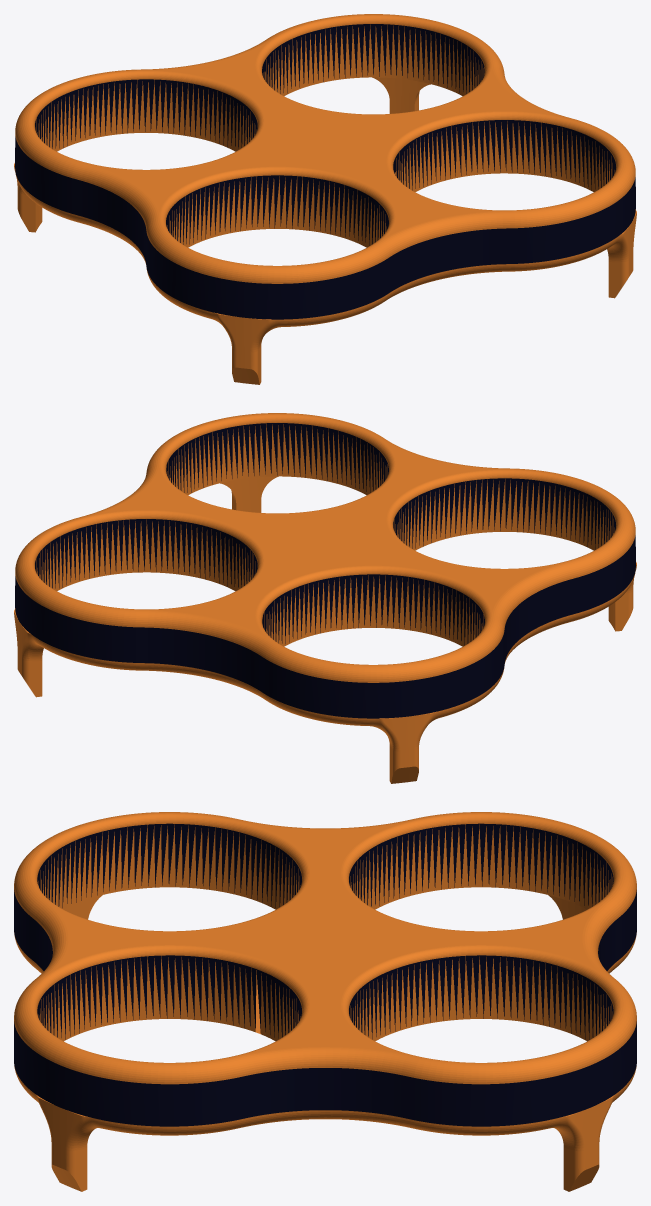
The model's file is uav.dae.
The picture shows the model from 3 angles, top to bottom: view 1: azimuth 30°, elevation 25°; view 2: azimuth 150°, elevation 25°; view 3: azimuth 270°, elevation 25°; orthographic projection. The views are drawn at different scales.
Parts seen in each view (by area): view 1: Drone modell v2.001; view 2: Drone modell v2.001; view 3: Drone modell v2.001.
Part boxes in pixels (box(x1,y1,x2,y2)): Drone modell v2.001: box(14, 14, 636, 384); Drone modell v2.001: box(14, 413, 636, 783); Drone modell v2.001: box(14, 812, 636, 1191).
Size of the model in its own units: 0.4 by 0.4 by 0.1.
